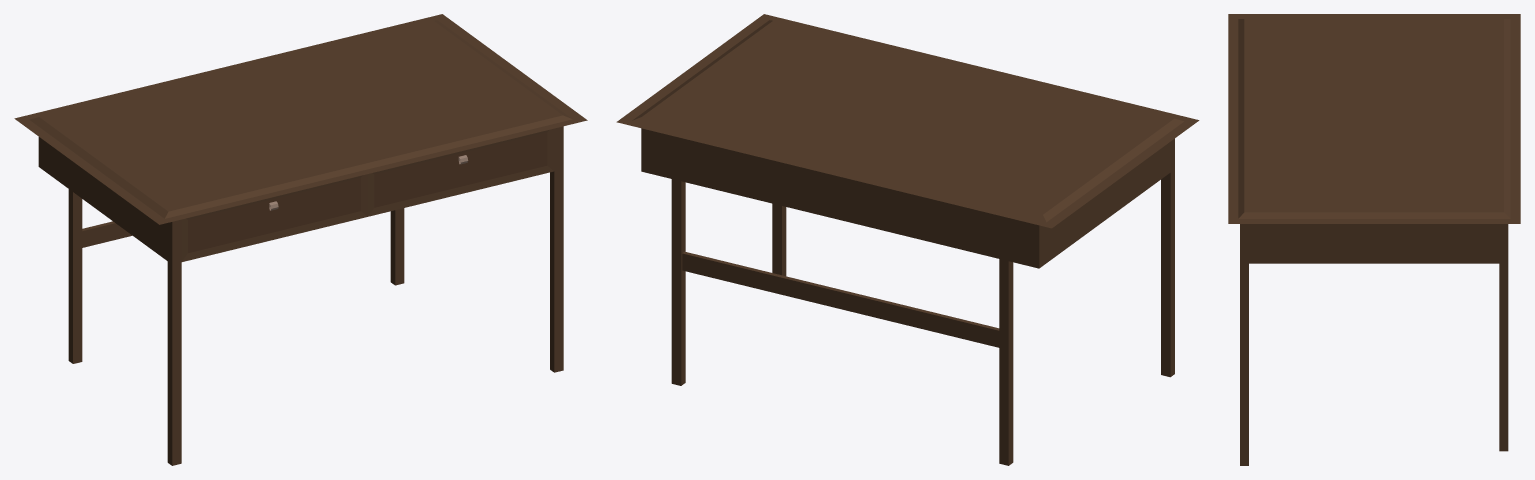
Rendered from Escrivania.fbx.
3 renders of one model, left to right at view 1: azimuth 30°, elevation 25°; view 2: azimuth 150°, elevation 25°; view 3: azimuth 270°, elevation 25°, orthographic.
Visible parts, largest first — view 1: Escrivania.001; view 2: Escrivania.001; view 3: Escrivania.001.
Part boxes in pixels (<box>): Escrivania.001: <box>14,14,587,465</box>; Escrivania.001: <box>616,14,1199,465</box>; Escrivania.001: <box>1228,14,1520,465</box>.
Size of the model in its own units: 111 by 62.72 by 65.3.
